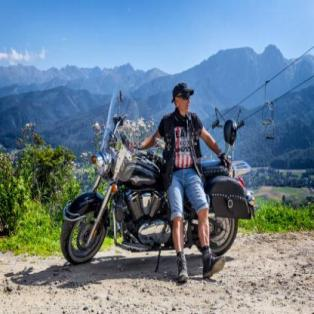Motocicleta: (58, 113, 254, 282)
